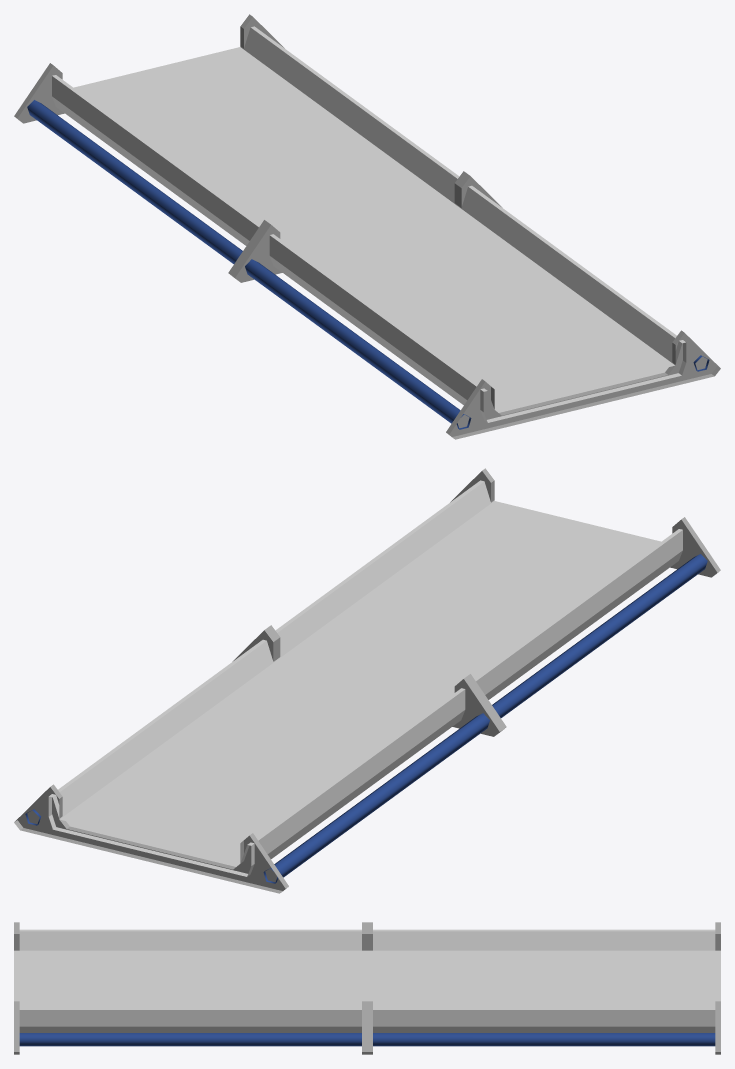
File: RacetrackStraightShort.fbx
The picture shows the model from 3 angles, top to bottom: view 1: azimuth 30°, elevation 25°; view 2: azimuth 150°, elevation 25°; view 3: azimuth 270°, elevation 25°; orthographic projection. The views are drawn at different scales.
Visible parts, largest first — view 1: RacetrackStraightShort.007, RacetrackStraightShort.006, Frames.009; view 2: RacetrackStraightShort.007, RacetrackStraightShort.006, Frames.009; view 3: RacetrackStraightShort.007, RacetrackStraightShort.006, Frames.009.
Part boxes in pixels (box(x1,y1,x2,y2)): RacetrackStraightShort.007: box(74, 47, 674, 409); RacetrackStraightShort.006: box(52, 26, 686, 422); Frames.009: box(14, 14, 720, 439); RacetrackStraightShort.007: box(60, 501, 660, 863); RacetrackStraightShort.006: box(48, 480, 682, 876); Frames.009: box(14, 468, 720, 893); RacetrackStraightShort.007: box(14, 950, 720, 1008); RacetrackStraightShort.006: box(19, 929, 715, 1032); Frames.009: box(14, 922, 720, 1054).
Size of the model in its own units: 3604 by 645 by 10000.
